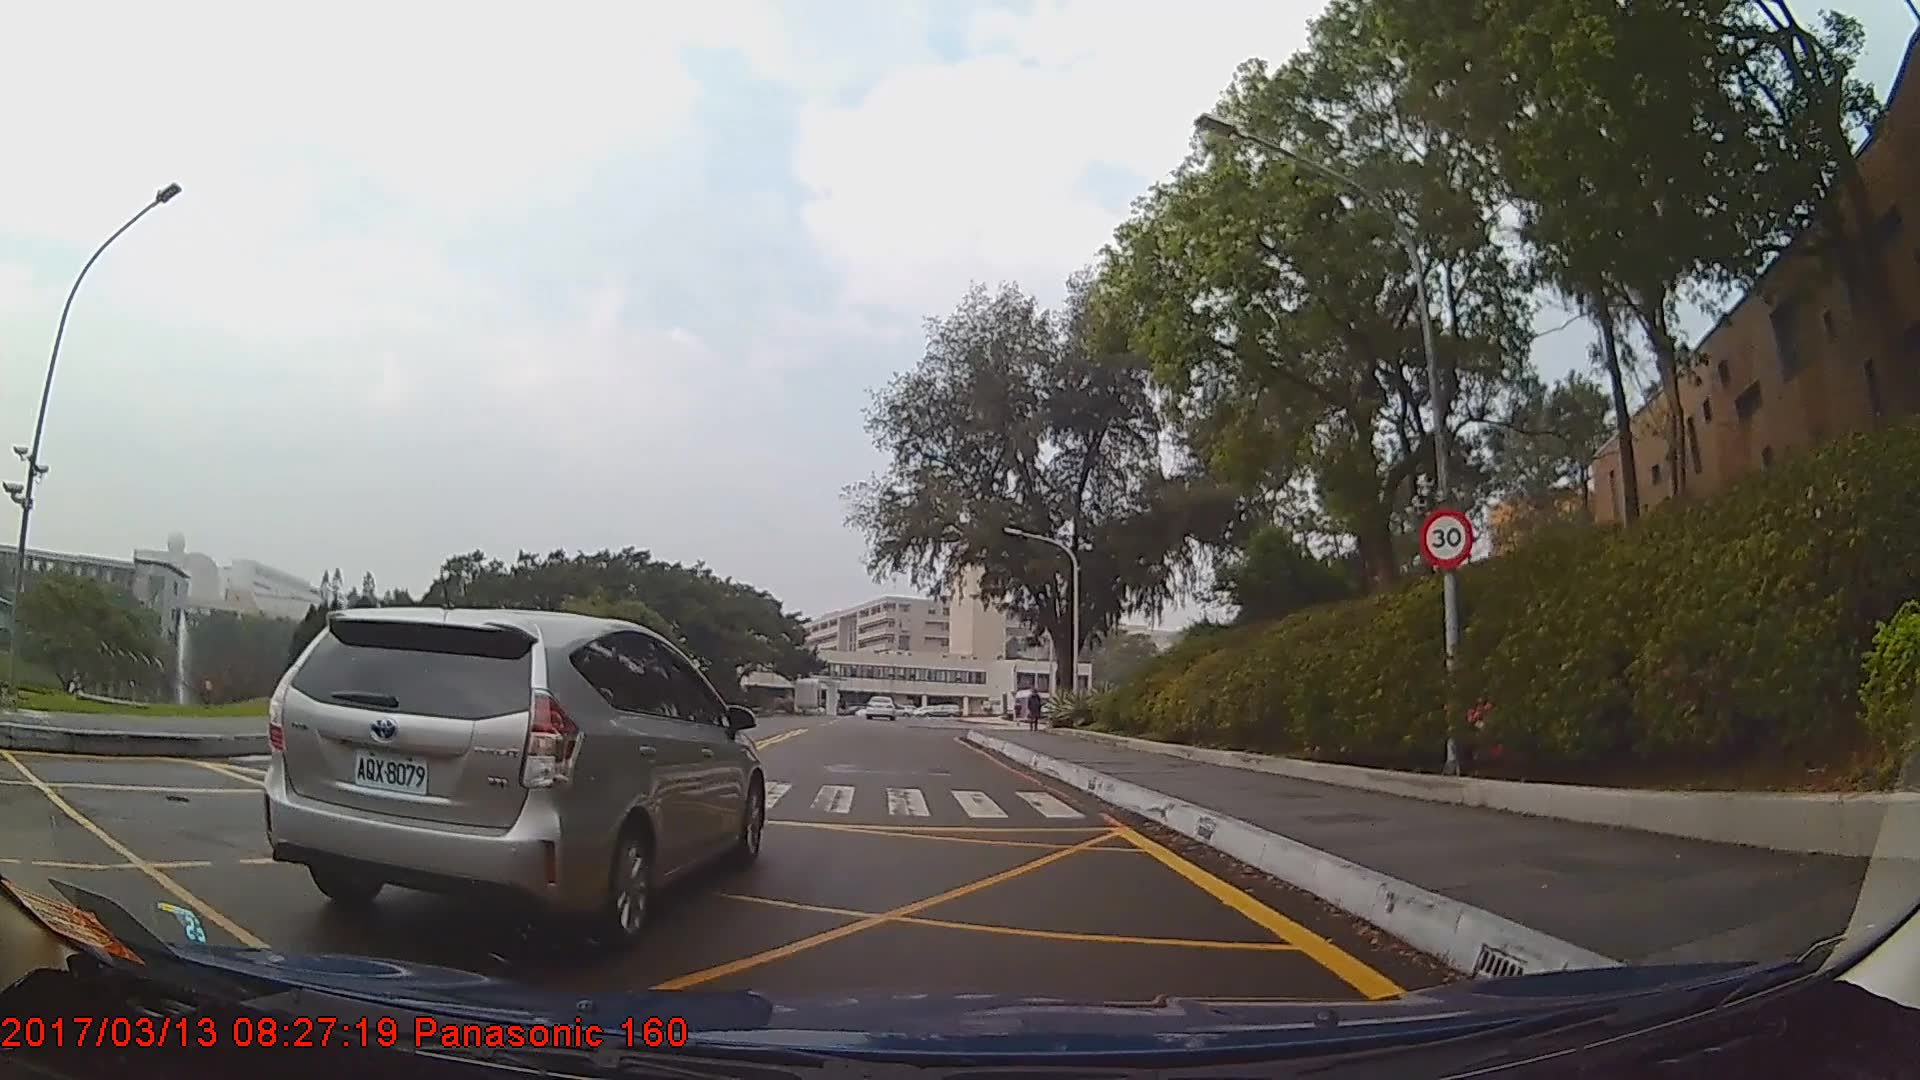pedestrian: (1025, 690, 1046, 736)
vehicle: (261, 601, 766, 949), (863, 694, 892, 721)
